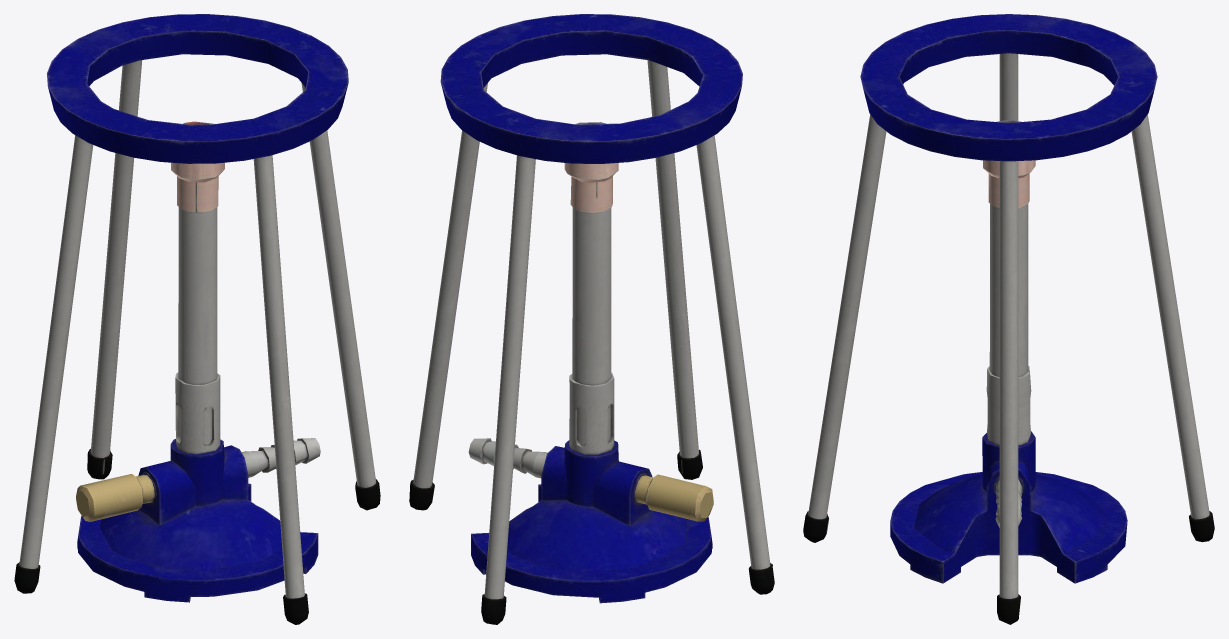
The model's file is bunsen_burner.glb.
3 renders of one model, left to right at view 1: azimuth 30°, elevation 25°; view 2: azimuth 150°, elevation 25°; view 3: azimuth 270°, elevation 25°, orthographic.
Bounding box in the file's own units: 0.1388 × 0.1731 × 0.1388.
Materials: 1 (1 with a texture image).
